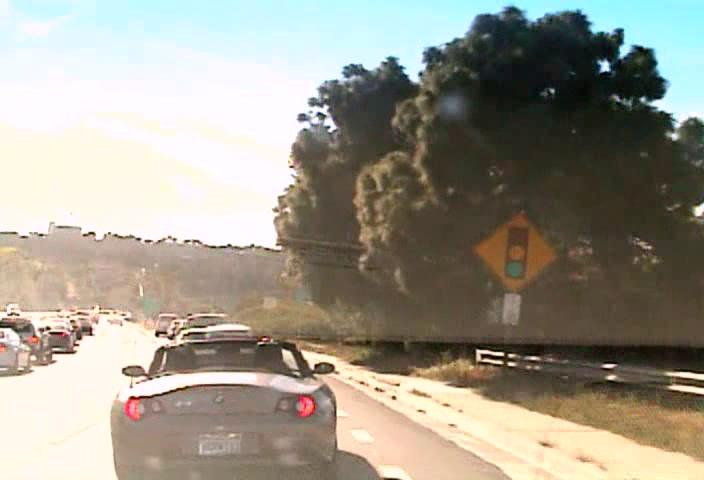signalAhead: (472, 208, 559, 292)
